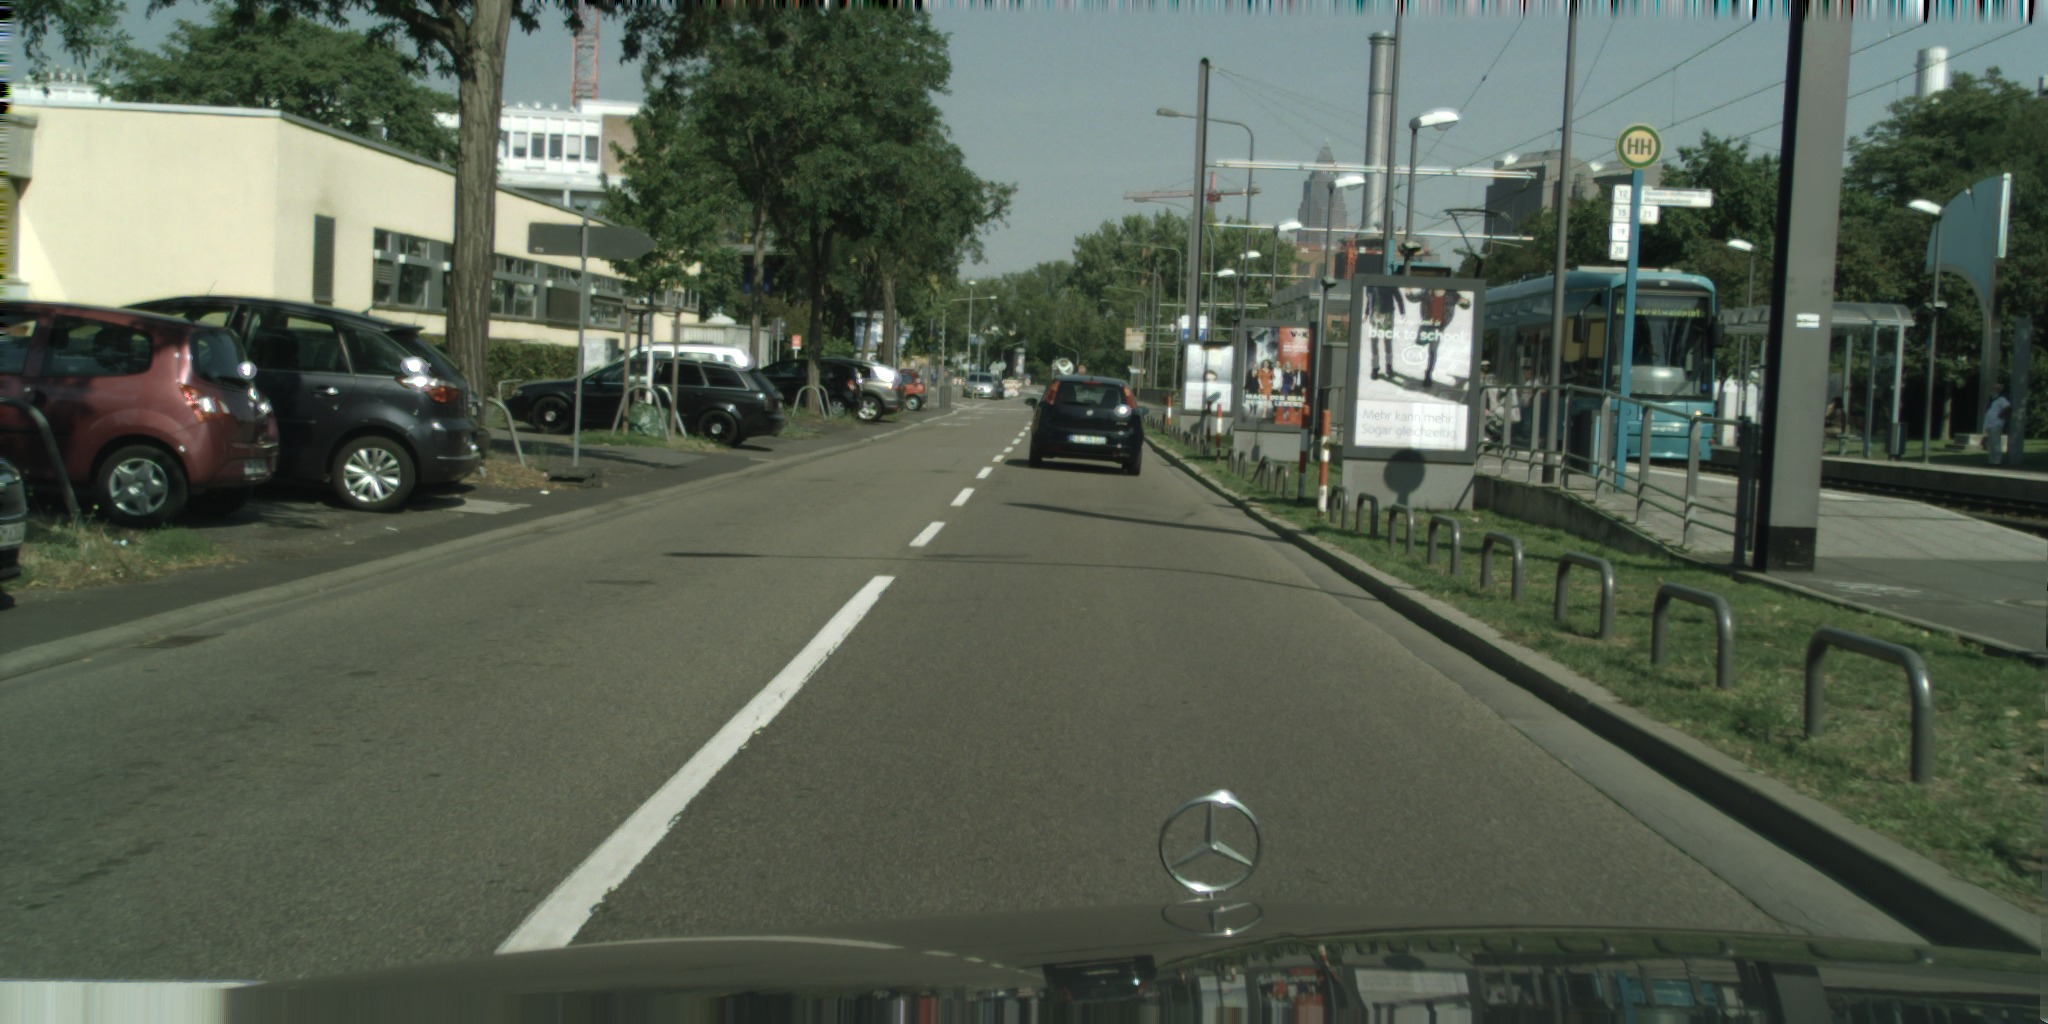car: (111, 293, 491, 512), (0, 301, 282, 531), (504, 356, 785, 449), (1024, 375, 1151, 476), (754, 356, 863, 420), (818, 356, 907, 424), (605, 342, 754, 383), (0, 455, 27, 582), (892, 368, 928, 411), (963, 371, 999, 401), (990, 374, 1005, 398)
person: (1473, 358, 1495, 455), (1980, 398, 2010, 465), (1815, 397, 1846, 438)
train: (1470, 263, 1724, 461)
